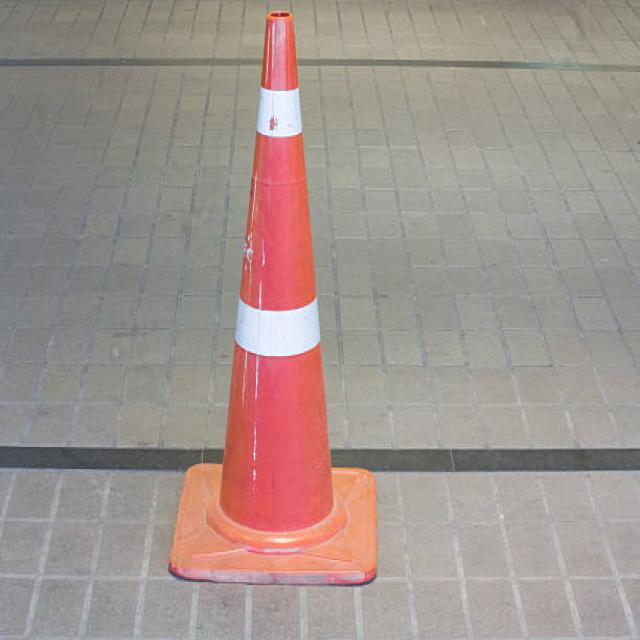Traffic Cone: (146, 2, 401, 610)
